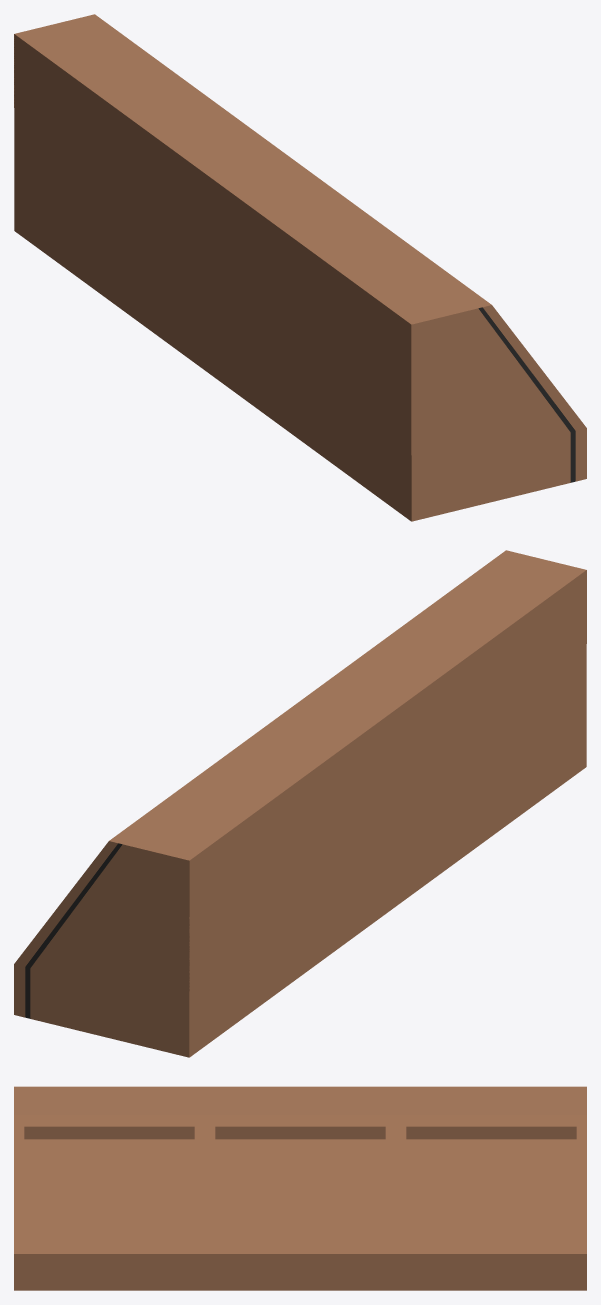
File: bottom shelf.fbx
3 views of the same model, one above another, from view 1: azimuth 30°, elevation 25°; view 2: azimuth 150°, elevation 25°; view 3: azimuth 270°, elevation 25° (orthographic). The views are drawn at different scales.
Parts seen in each view (by area): view 1: Cube.002; view 2: Cube.002; view 3: Cube.002.
Boxes of the visible parts, left/top/right/bottom form: Cube.002: left=14, top=14, right=586, bottom=521; Cube.002: left=14, top=550, right=586, bottom=1057; Cube.002: left=14, top=1086, right=586, bottom=1290.
Bounding box in the file's own units: 147 × 158 × 577.
